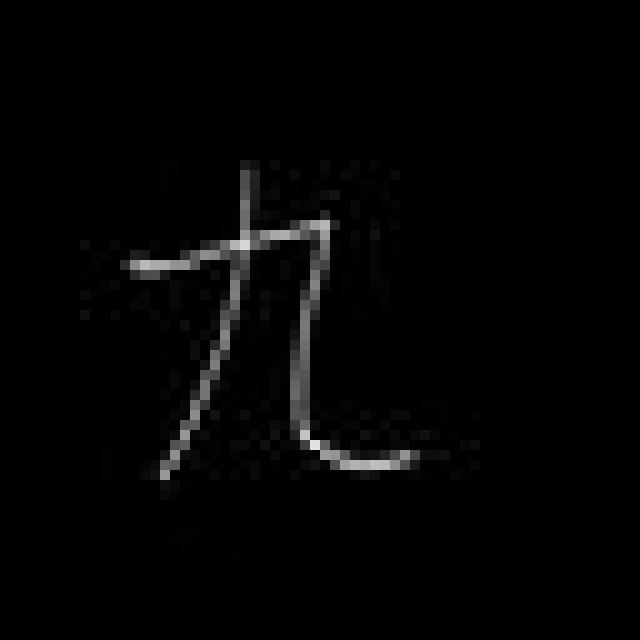9 -nine-: (126, 163, 422, 487)
